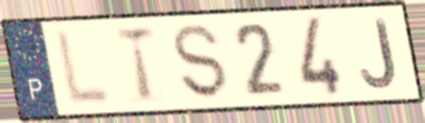2: (232, 21, 288, 97)
4: (295, 13, 345, 100)
J: (358, 16, 400, 91)
L: (54, 27, 115, 109)
S: (170, 22, 231, 102)
T: (113, 23, 159, 106)
